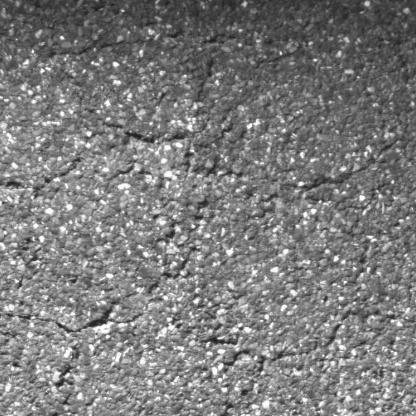Cracks: (0, 105, 214, 201), (0, 244, 205, 338)
